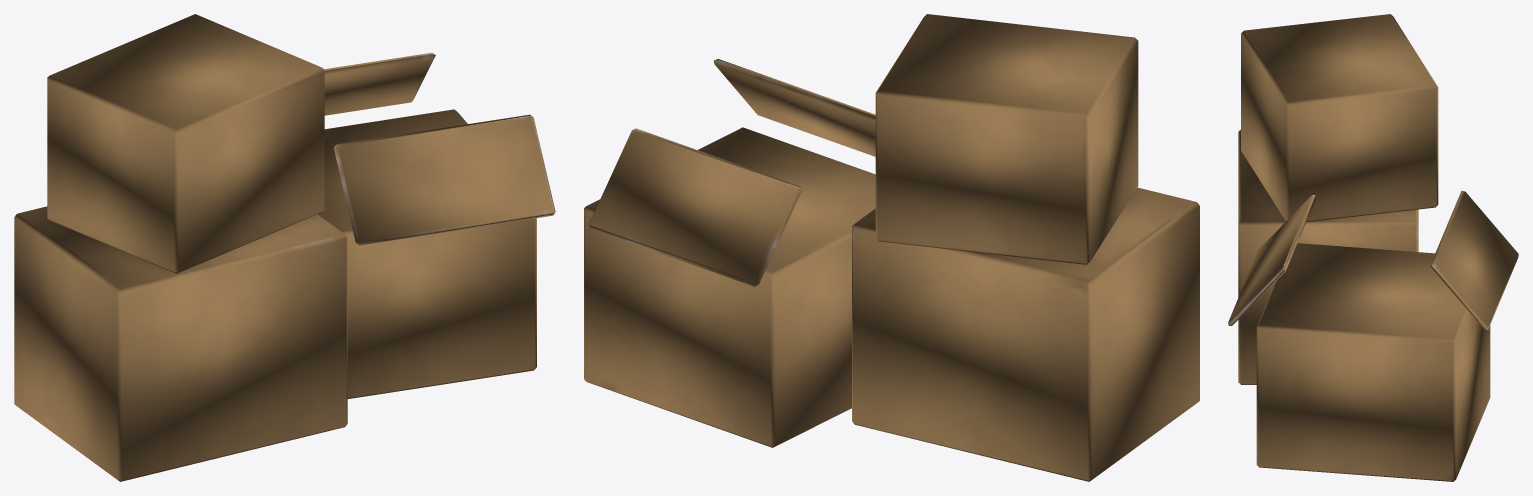
File: Cajas_Carton.fbx
3 views of the same model, side by side, from view 1: azimuth 30°, elevation 25°; view 2: azimuth 150°, elevation 25°; view 3: azimuth 270°, elevation 25° (orthographic). The views are drawn at different scales.
Visible parts, largest first — view 1: Cajas_Carton; view 2: Cajas_Carton; view 3: Cajas_Carton.
Boxes of the visible parts, box(x1,y1,x2,y2) form: Cajas_Carton: box(14, 14, 555, 481); Cajas_Carton: box(584, 14, 1199, 481); Cajas_Carton: box(1228, 14, 1518, 481).
Bounding box in the file's own units: 4.04 × 2.8 × 2.58.
